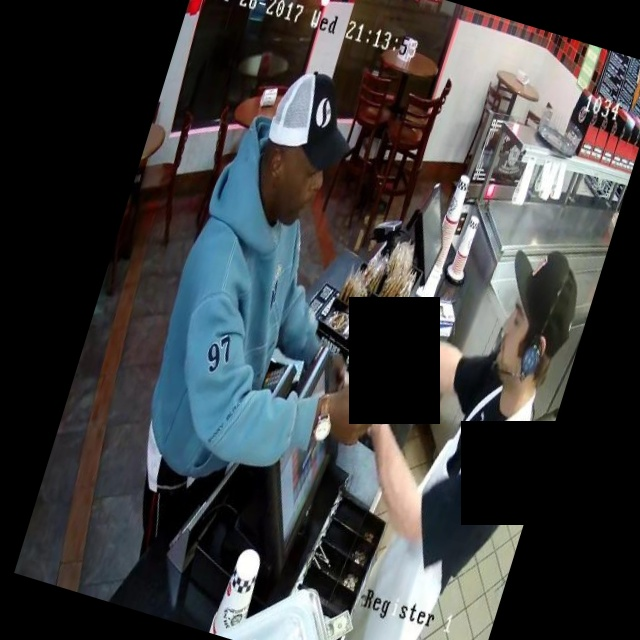gun: (325, 336, 433, 448)
